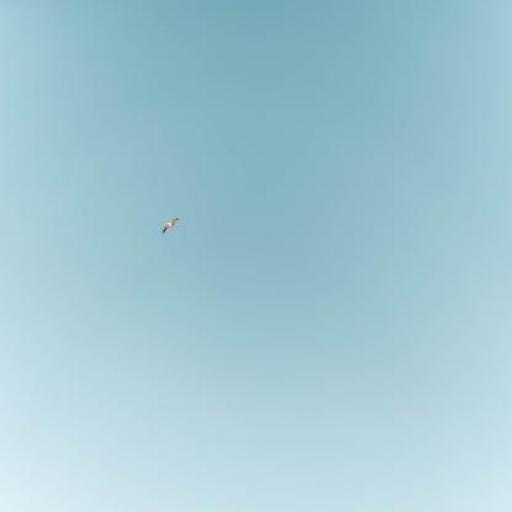bird: (162, 215, 180, 234)
